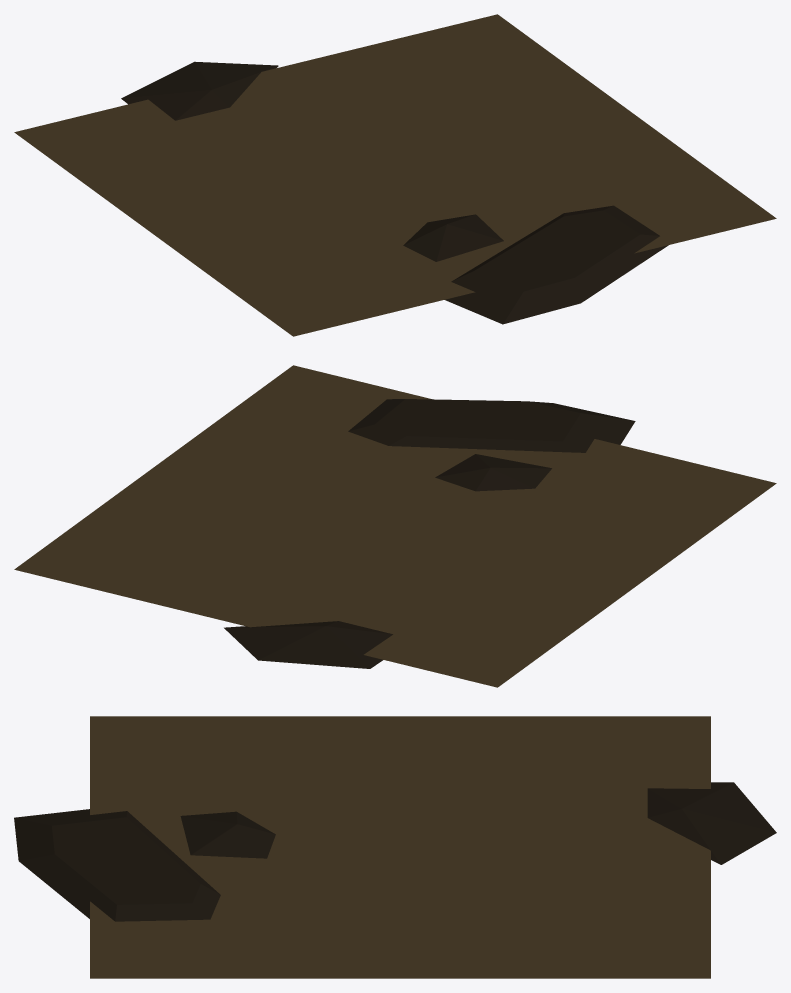
The model's file is Floor.015.fbx.
3 views of the same model, one above another, from view 1: azimuth 30°, elevation 25°; view 2: azimuth 150°, elevation 25°; view 3: azimuth 270°, elevation 25° (orthographic). The views are drawn at different scales.
Parts seen in each view (by area): view 1: Floor.015; view 2: Floor.015; view 3: Floor.015.
Boxes of the visible parts, box(x1,y1,x2,y2) form: Floor.015: box(14, 14, 776, 336); Floor.015: box(14, 365, 776, 687); Floor.015: box(14, 716, 776, 978).
Bounding box in the file's own units: 100 × 3.16 × 123.
